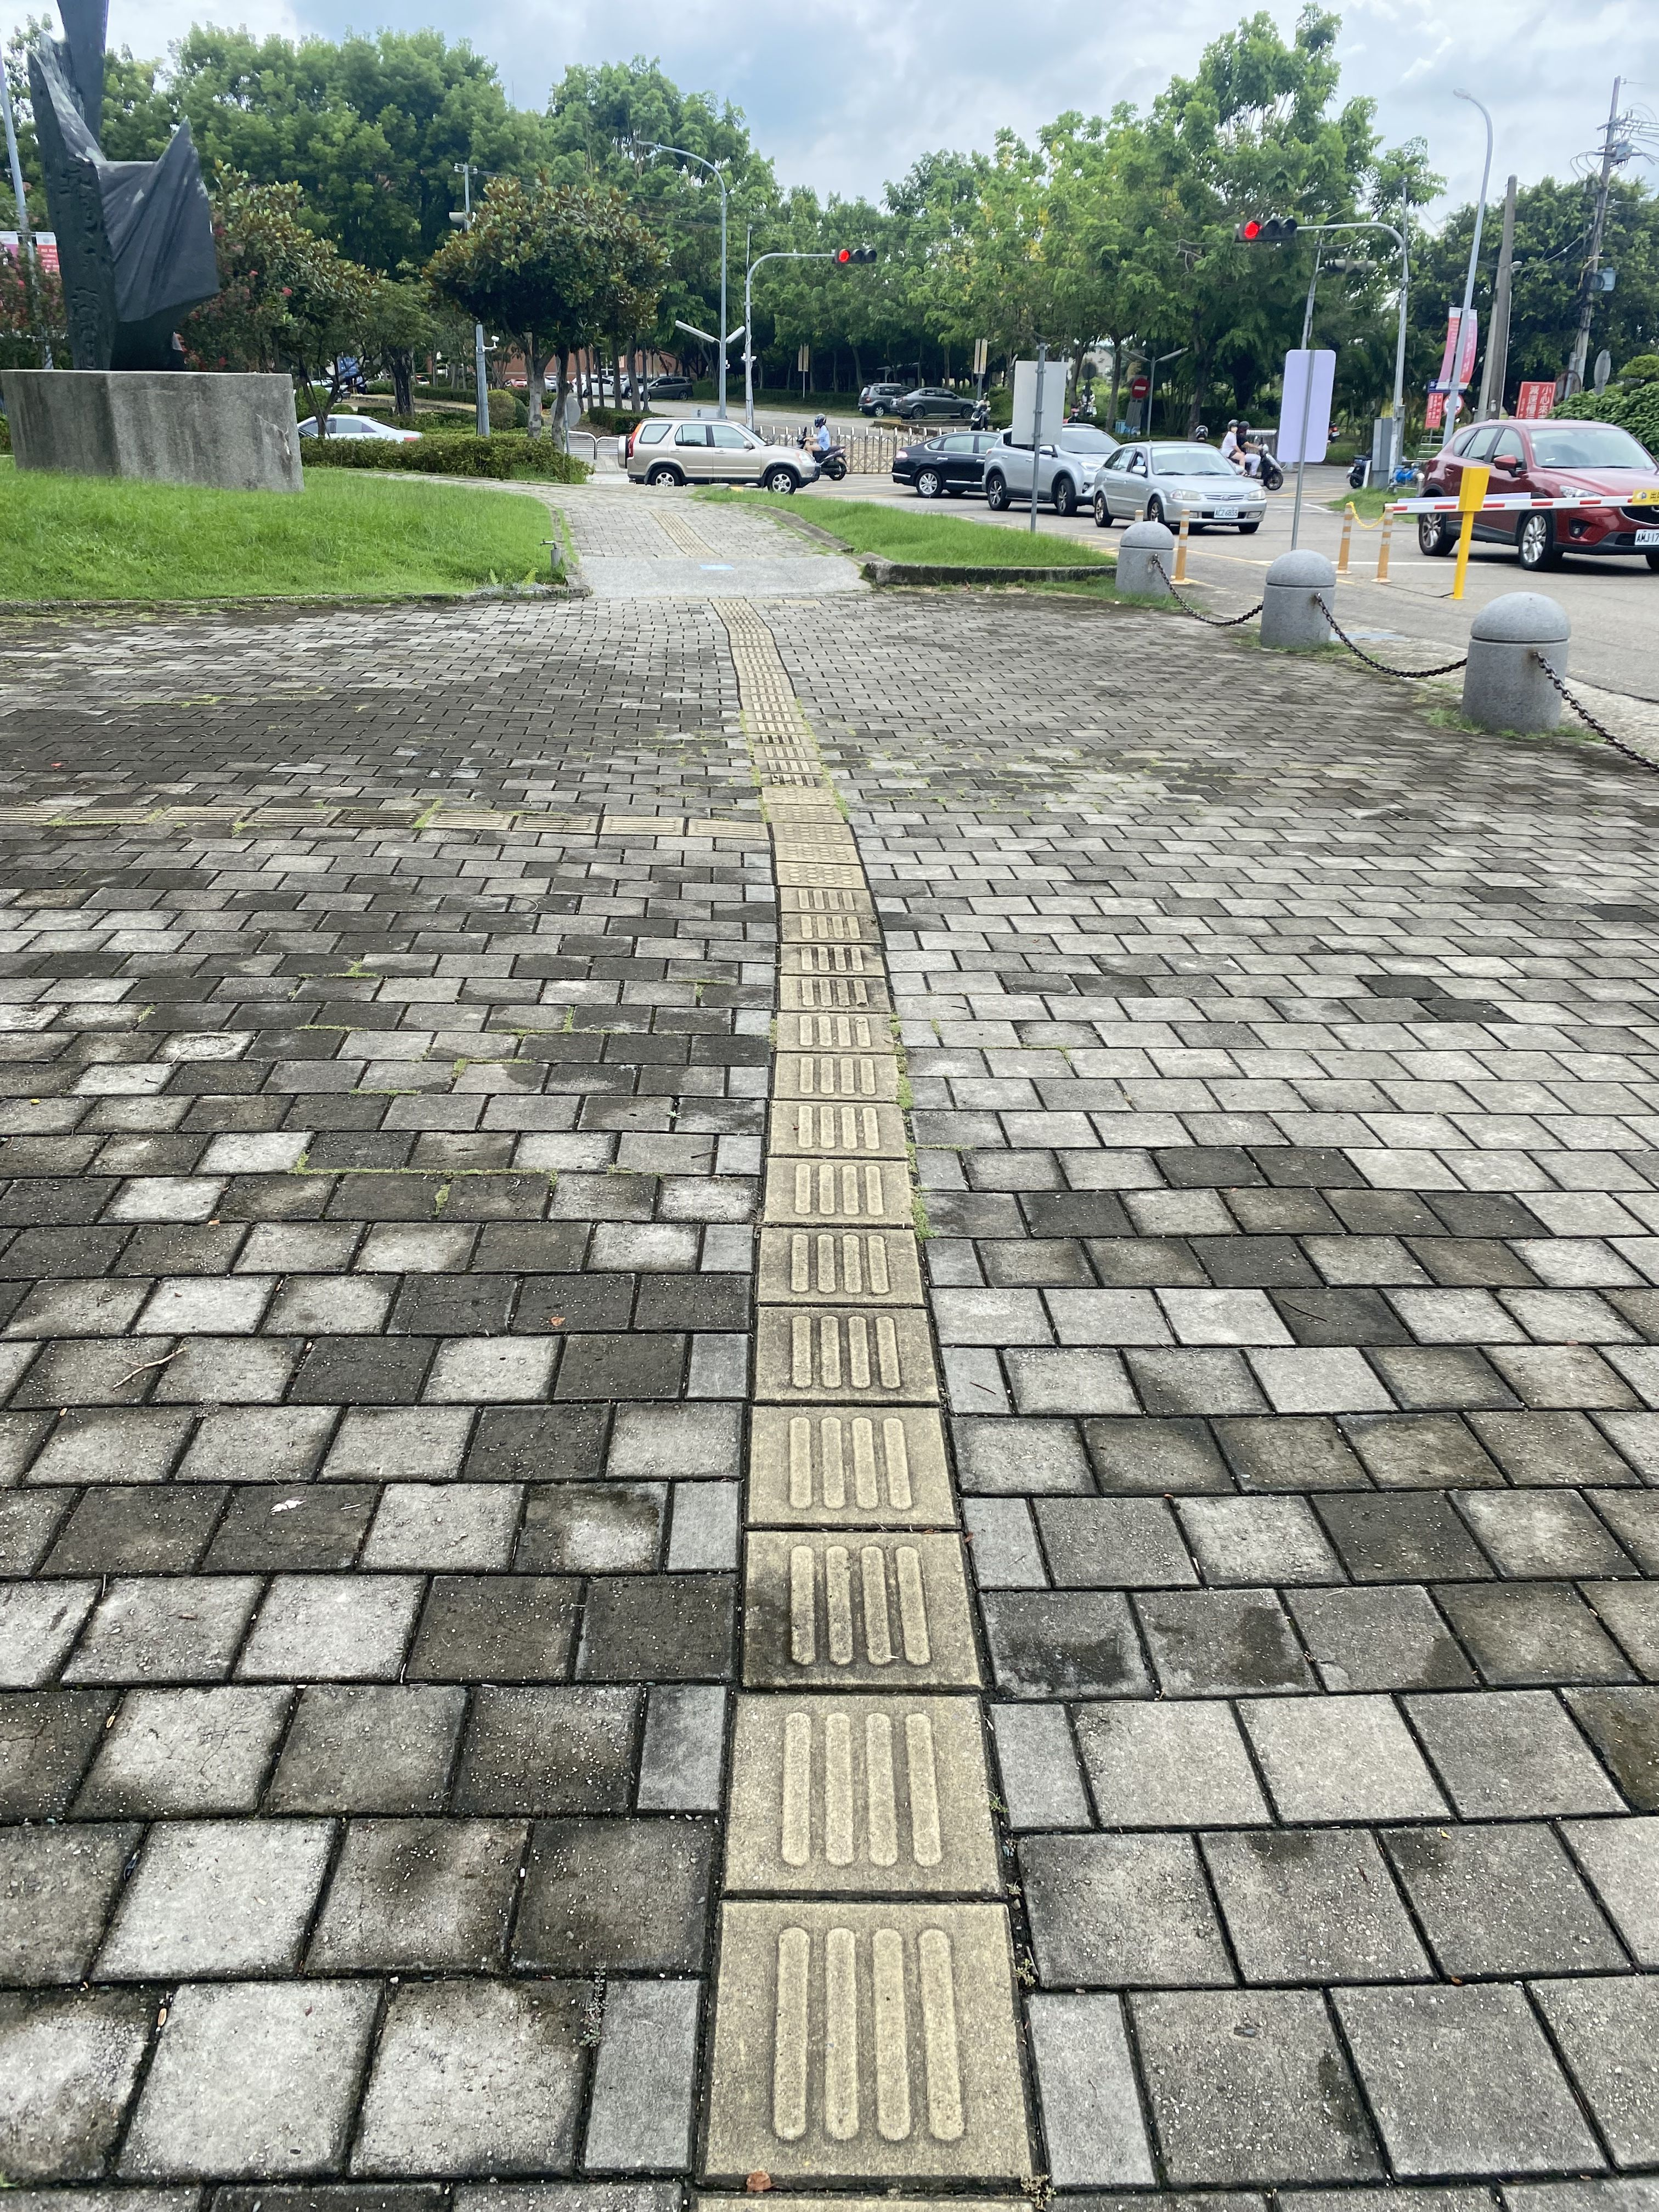sidewalk: (7, 442, 1659, 2212)
